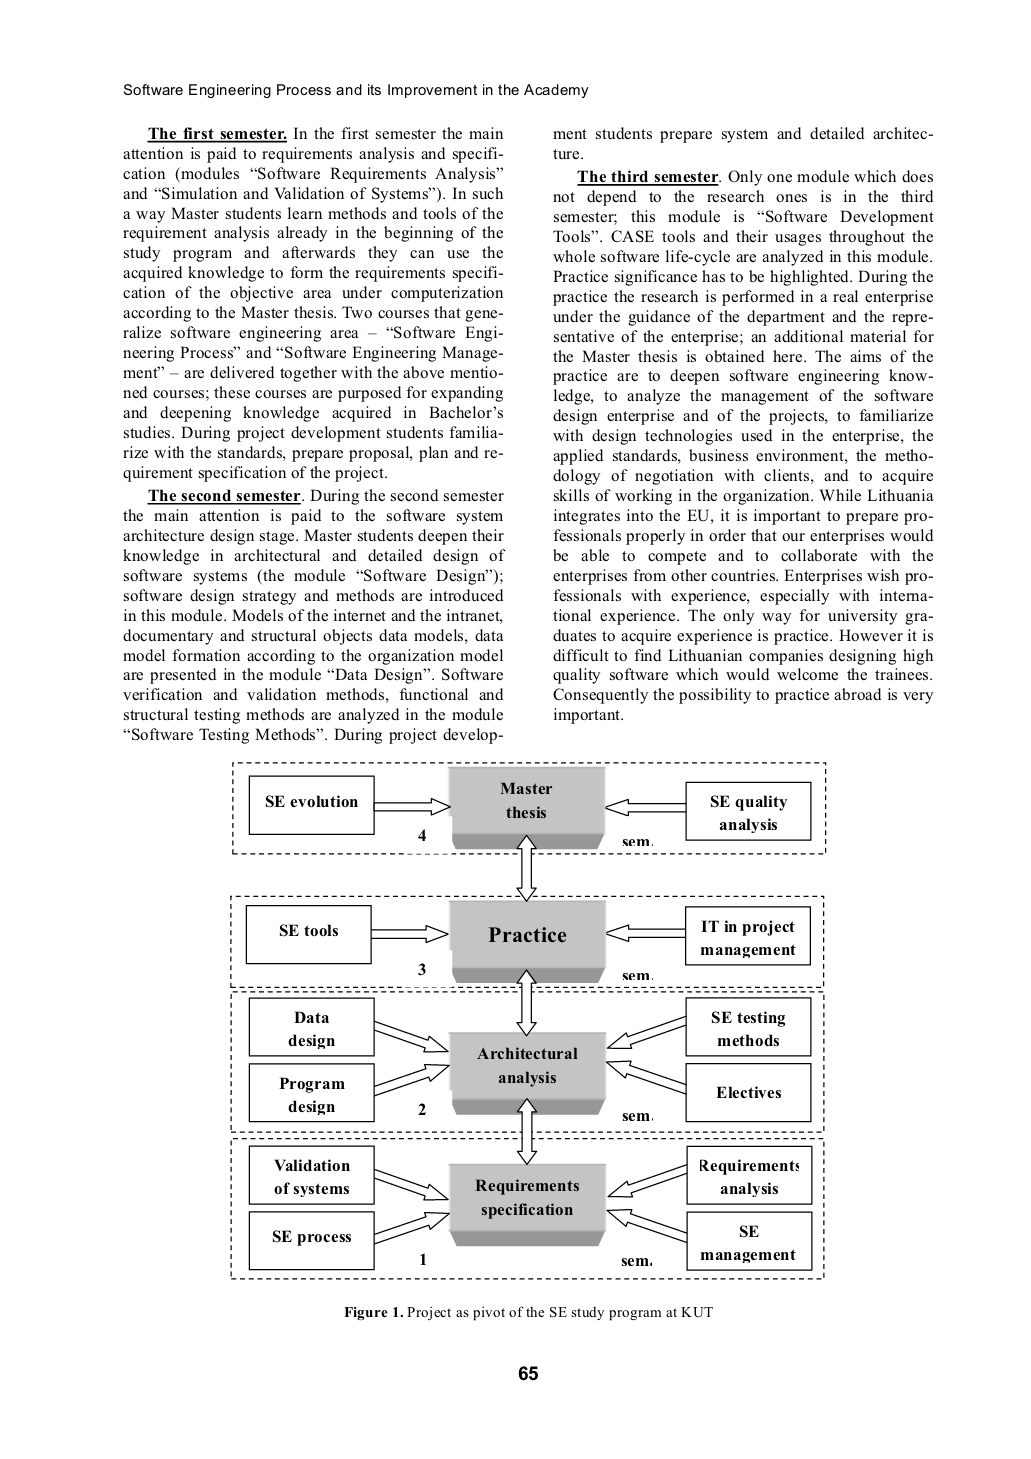figure: (230, 761, 826, 1281)
